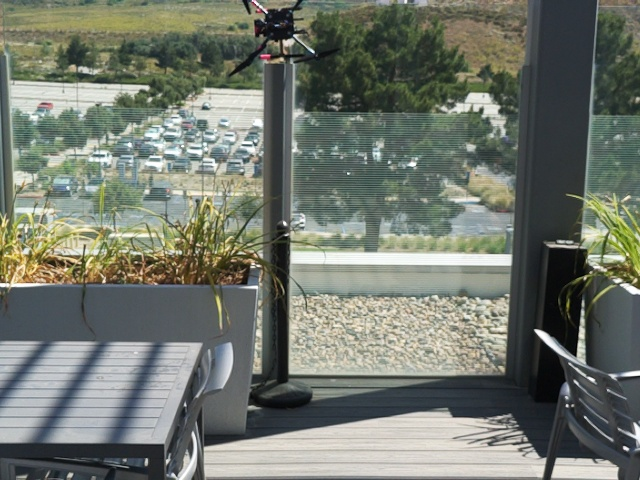quadcopter: (221, 1, 355, 90)
